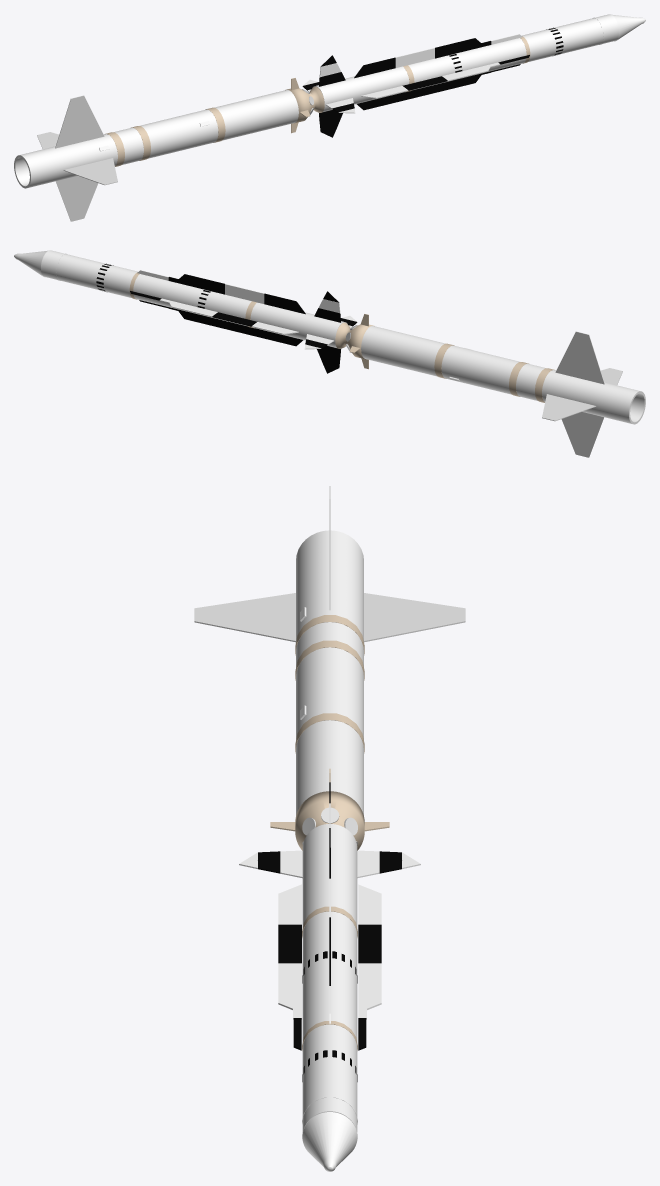
Rendered from missile.FBX.
The picture shows the model from 3 angles, top to bottom: view 1: azimuth 30°, elevation 25°; view 2: azimuth 150°, elevation 25°; view 3: azimuth 270°, elevation 25°; orthographic projection. The views are drawn at different scales.
Visible parts, largest first — view 1: Cylinder10, Cylinder17, Line01, Line26, Line28, Cylinder11, Line44, Line43, Line03, Cylinder01, Line47, Line55 (+2 smaller); view 2: Cylinder10, Cylinder17, Line01, Line26, Line27, Cylinder11, Line44, Line43, Line03, Cylinder01, Line47, Line51 (+2 smaller); view 3: Cylinder10, Cylinder17, Line27, Line28, Cylinder01, Cylinder11, Line55, Line51, Line54, Line50.
Part boxes in pixels (bbox=[...]): Cylinder10: bbox=[14, 90, 298, 188]; Cylinder17: bbox=[312, 14, 618, 111]; Line01: bbox=[55, 95, 104, 148]; Line26: bbox=[56, 176, 98, 221]; Line28: bbox=[63, 158, 117, 185]; Cylinder11: bbox=[285, 86, 324, 123]; Line44: bbox=[435, 38, 491, 58]; Line43: bbox=[395, 48, 434, 67]; Line03: bbox=[354, 57, 395, 78]; Cylinder01: bbox=[612, 14, 645, 41]; Line47: bbox=[435, 71, 491, 92]; Line55: bbox=[442, 62, 500, 80]; Cylinder10: bbox=[361, 326, 645, 424]; Cylinder17: bbox=[41, 250, 347, 347]; Line01: bbox=[555, 331, 604, 384]; Line26: bbox=[561, 412, 603, 457]; Line27: bbox=[542, 394, 596, 421]; Cylinder11: bbox=[335, 322, 374, 359]; Line44: bbox=[168, 274, 224, 294]; Line43: bbox=[225, 284, 264, 303]; Line03: bbox=[264, 293, 305, 314]; Cylinder01: bbox=[14, 250, 47, 277]; Line47: bbox=[168, 307, 224, 328]; Line51: bbox=[159, 298, 217, 316]; Cylinder10: bbox=[296, 530, 363, 815]; Cylinder17: bbox=[302, 824, 357, 1131]; Line27: bbox=[364, 593, 465, 642]; Line28: bbox=[194, 593, 295, 642]; Cylinder01: bbox=[302, 1112, 357, 1171]; Cylinder11: bbox=[295, 791, 364, 850]; Line55: bbox=[278, 963, 301, 1019]; Line51: bbox=[358, 963, 381, 1019]; Line54: bbox=[278, 924, 301, 963]; Line50: bbox=[358, 924, 381, 963].
Bounding box in the file's own units: 412 × 77.76 × 77.76.
